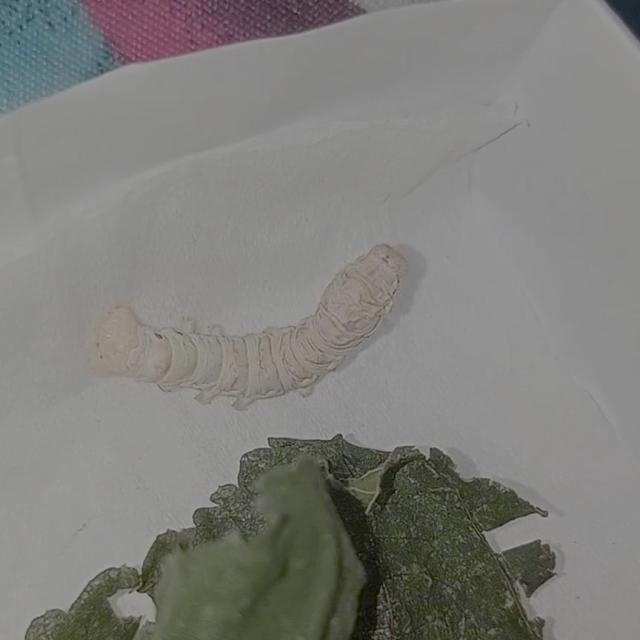Healthy: (81, 237, 412, 411)
